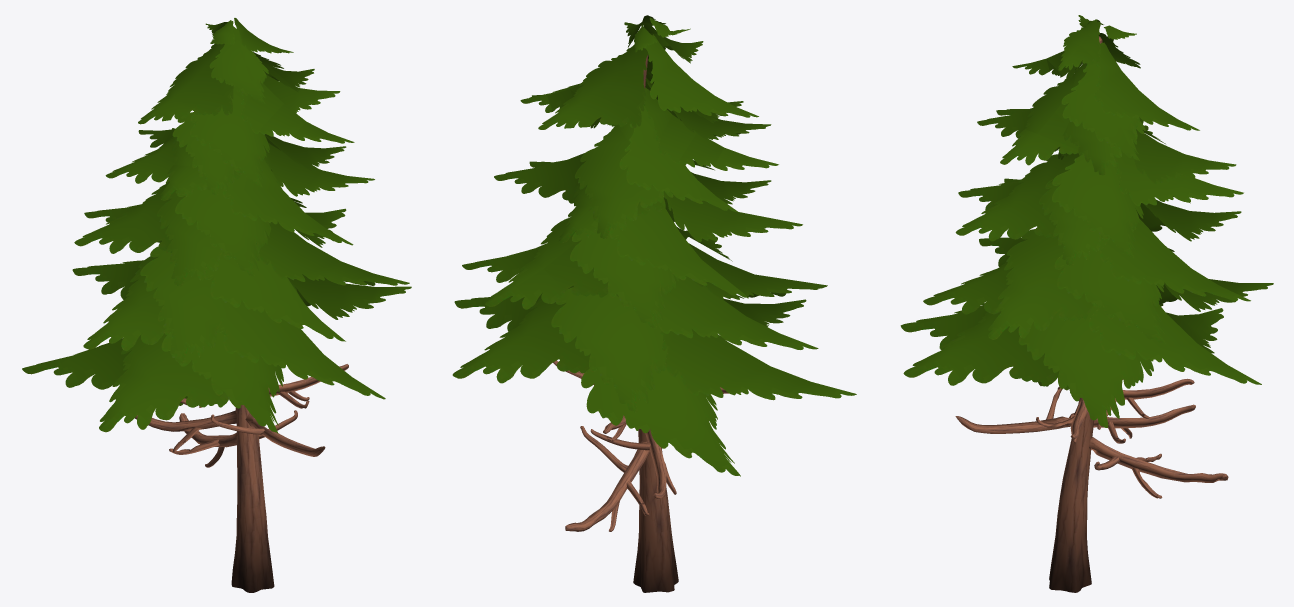
The model's file is n_pine_1.glb.
3 renders of one model, left to right at view 1: azimuth 30°, elevation 25°; view 2: azimuth 150°, elevation 25°; view 3: azimuth 270°, elevation 25°, orthographic. The views are drawn at different scales.
Visible parts, largest first — view 1: Pine_1; view 2: Pine_1; view 3: Pine_1.
Part boxes in pixels (x1,y1,x2,y2): Pine_1: (22,18,411,592); Pine_1: (452,15,856,592); Pine_1: (900,15,1273,592).
Bounding box in the file's own units: 4.94 × 7.32 × 4.54.
Materials: 2 (2 with a texture image).
